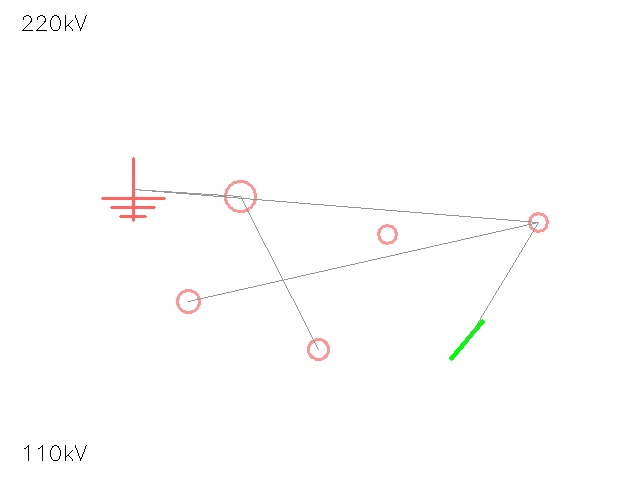busbar: (437, 310, 497, 370)
feeder_terminal: (209, 165, 271, 227)
fuse: (519, 203, 557, 241)
ground: (102, 158, 164, 220)
load_break_switch: (297, 328, 339, 370)
surge_arrester: (369, 216, 405, 252)
voltage_transformer: (166, 279, 210, 323)
